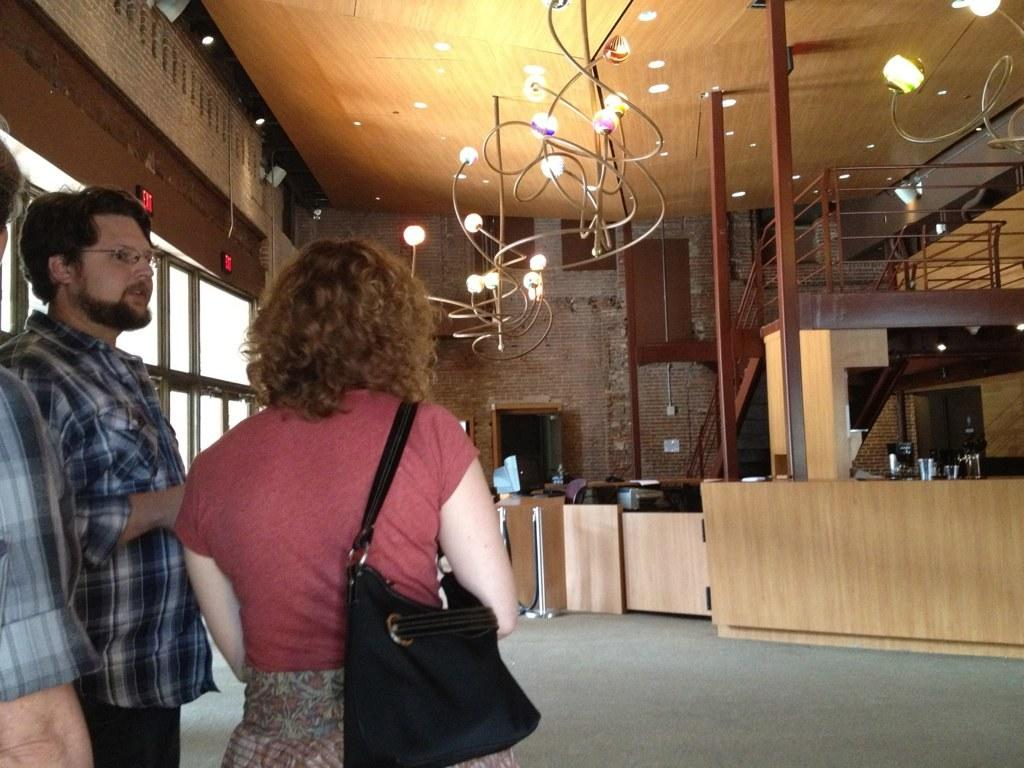Luggage-and-bags: (333, 391, 534, 766)
